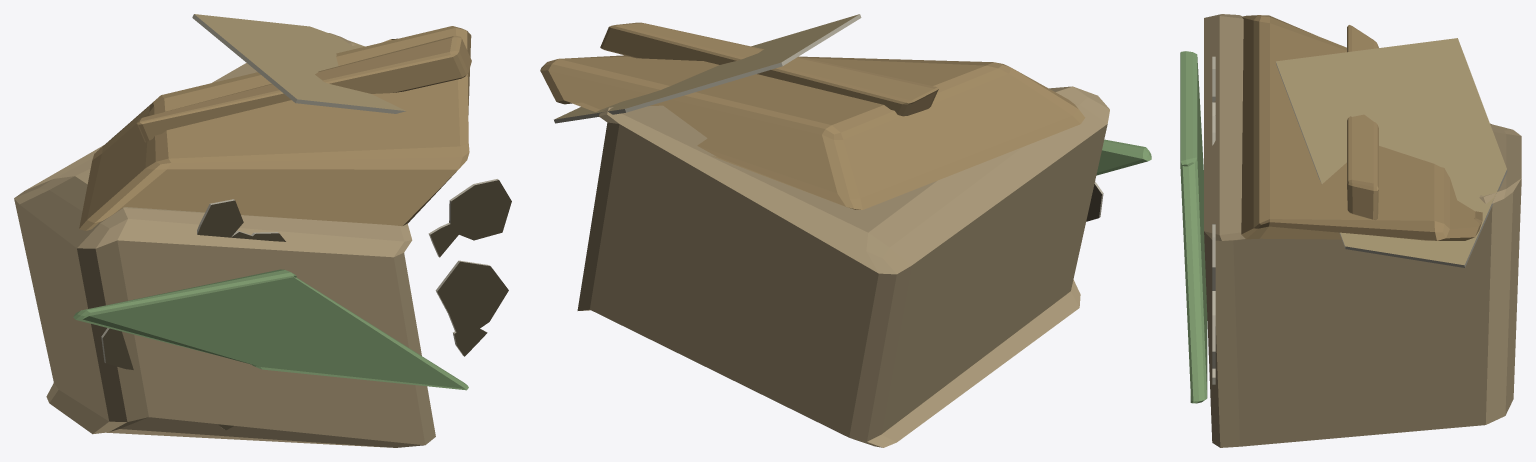
Rendered from Carton_Crushed_Torn.glb.
3 views of the same model, side by side, from view 1: azimuth 30°, elevation 25°; view 2: azimuth 150°, elevation 25°; view 3: azimuth 270°, elevation 25° (orthographic). The views are drawn at different scales.
Parts seen in each view (by area): view 1: Litter; view 2: Litter; view 3: Litter.
Boxes of the visible parts, x1,y1,x2,y2 form: Litter: (14,14,511,447); Litter: (540,14,1151,447); Litter: (1180,14,1521,447).
Size of the model in its own units: 0.2762 by 0.1859 by 0.1606.
